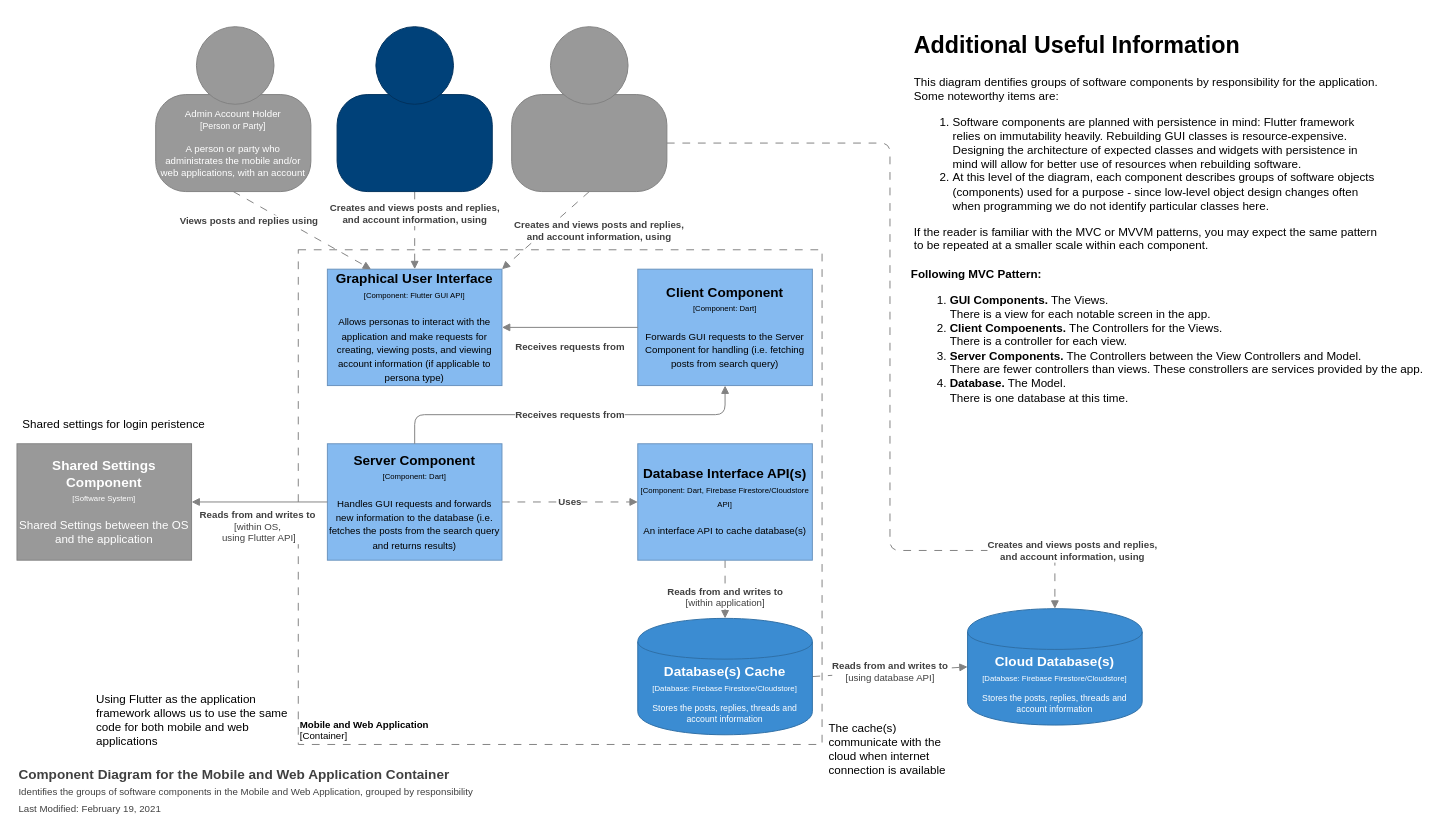
The diagram is 1450 pixels wide and 831 high, and some of its shapes have lost their labels. The shapes that lost their labels are listed below. From the top down, each one's centre as x and y in pixels, then its label:
At point (414, 143): "Account Holder [Person] A member of the community, with an account".
At point (589, 143): "Passerby [Person or Party] A person or party without an account".
